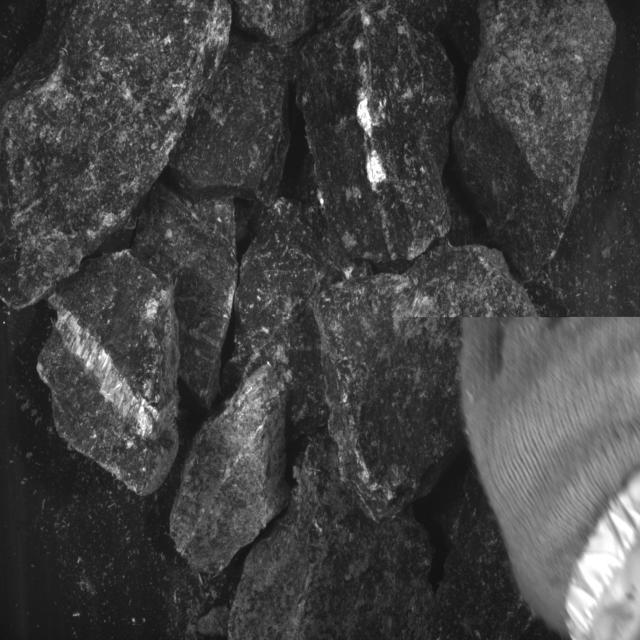Stones: (1, 1, 232, 309), (316, 246, 536, 520), (454, 1, 616, 281), (230, 436, 435, 640), (299, 4, 457, 262), (39, 251, 181, 496), (224, 200, 339, 439), (171, 365, 290, 574), (132, 185, 239, 409), (170, 36, 290, 196), (234, 1, 315, 47)
